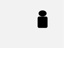human: (35, 8, 50, 29)
